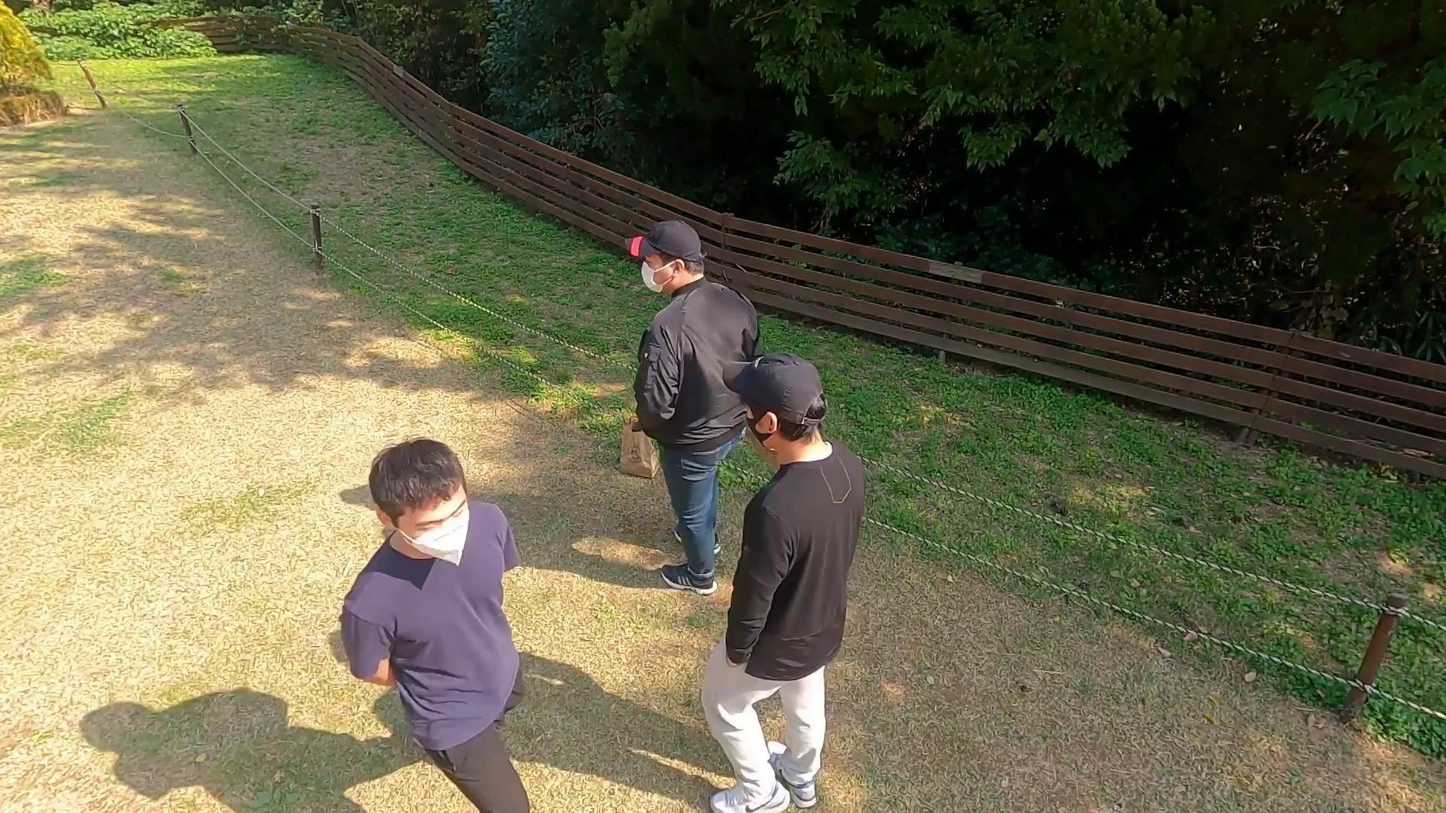person: (326, 441, 571, 813), (680, 348, 872, 813), (609, 219, 762, 602)
trash: (613, 420, 658, 478)
